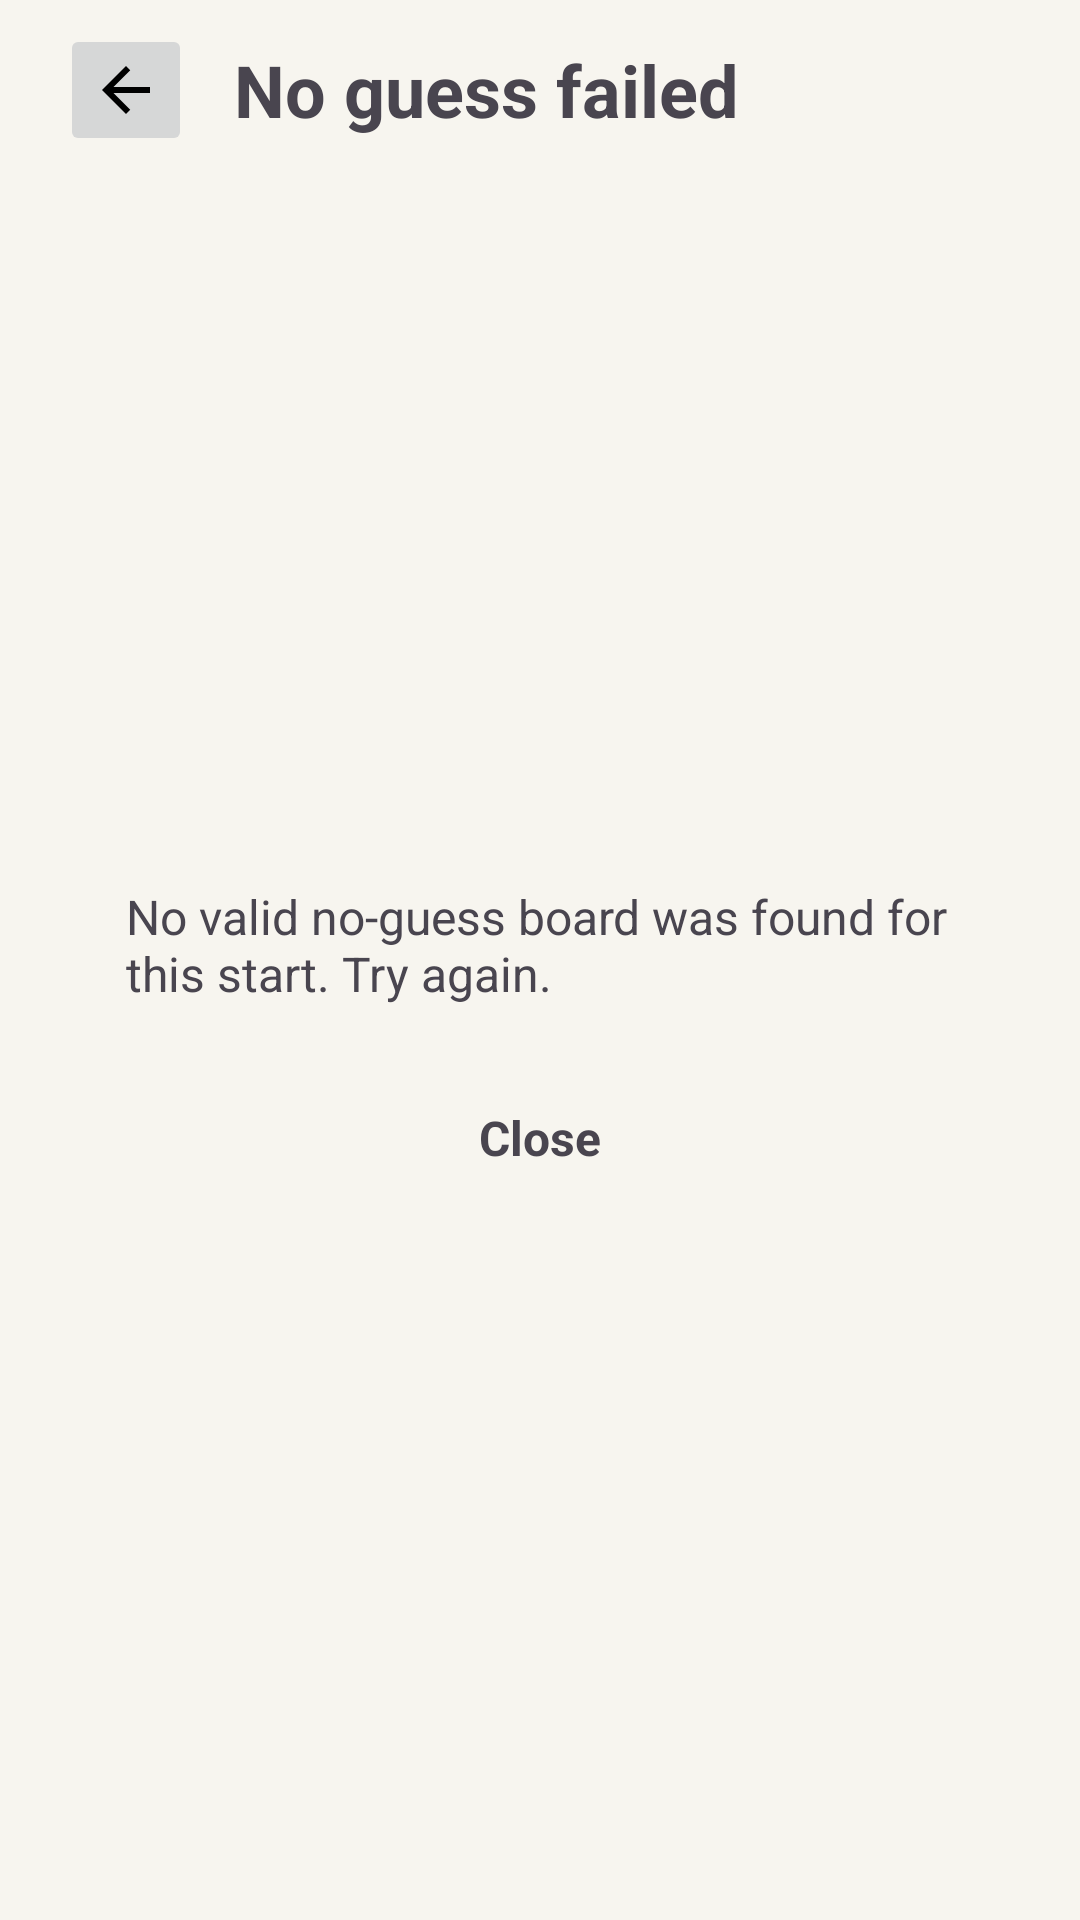

Screen size 1080w x 1920h. Icon name, then its box in pixels as (x1=x1, y1=y1, x2=x2, y2=y2):
arrow back: (x1=72, y1=42, x2=180, y2=138)
